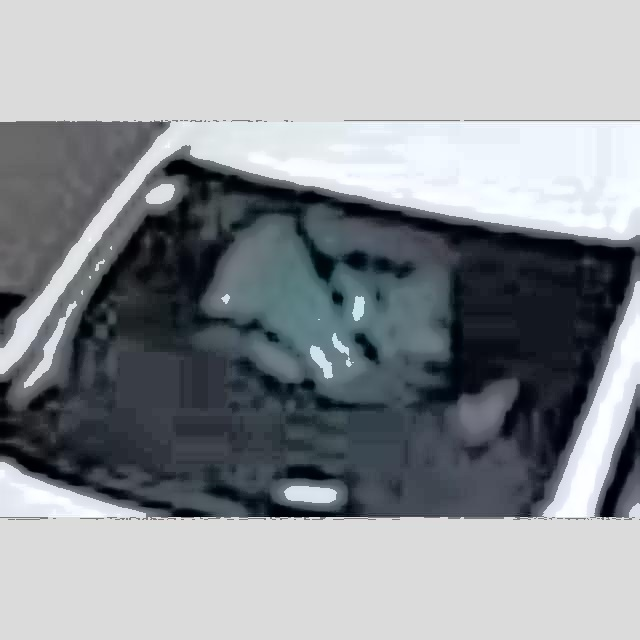pakai: (201, 180, 453, 417)
